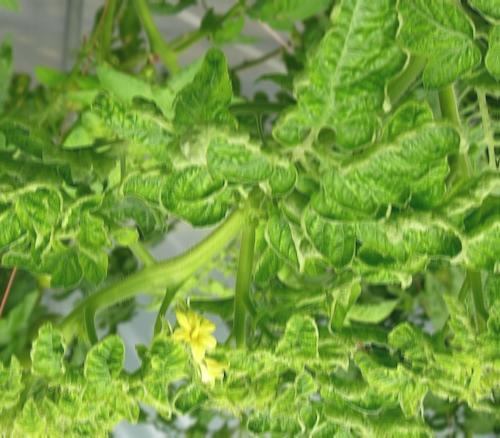Tomato leaf yellow virus: (278, 0, 410, 154), (328, 117, 466, 209), (118, 144, 233, 240), (203, 119, 301, 193), (295, 193, 385, 272), (256, 206, 319, 269), (349, 352, 431, 397), (36, 314, 83, 384), (81, 330, 135, 387), (268, 312, 326, 361)
